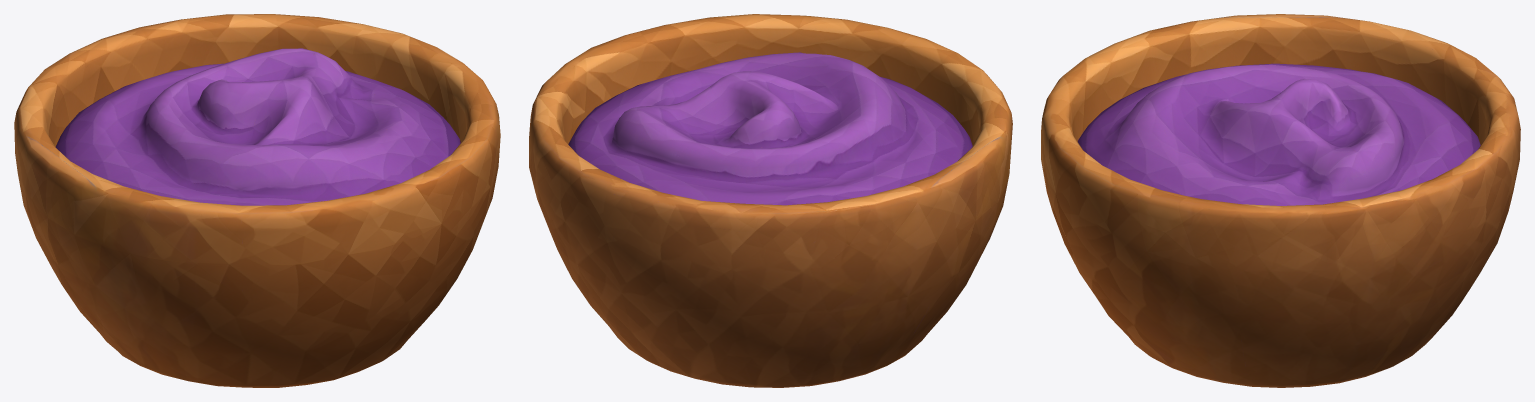
Rendered from Meshy_AI_Purple_Swirl_Bowl_0922181108_texture.glb.
3 views of the same model, side by side, from view 1: azimuth 30°, elevation 25°; view 2: azimuth 150°, elevation 25°; view 3: azimuth 270°, elevation 25° (orthographic).
Size of the model in its own units: 1 by 0.543 by 1.
1 material, 1 textured.
